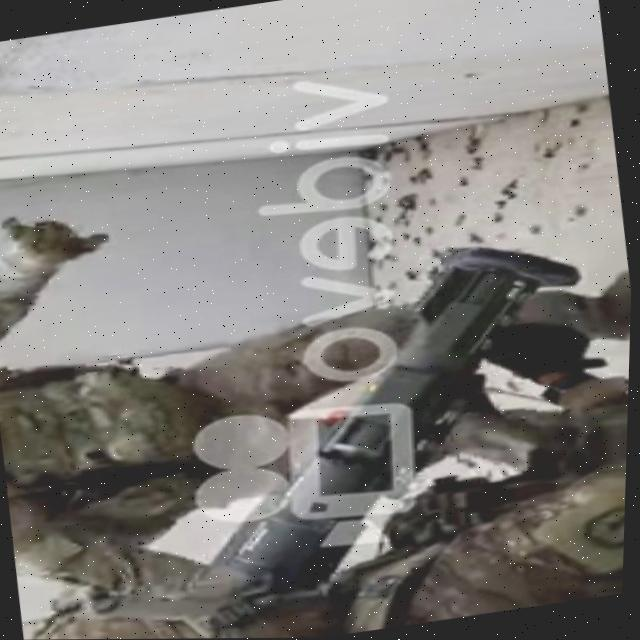rocket: (163, 218, 626, 607)
